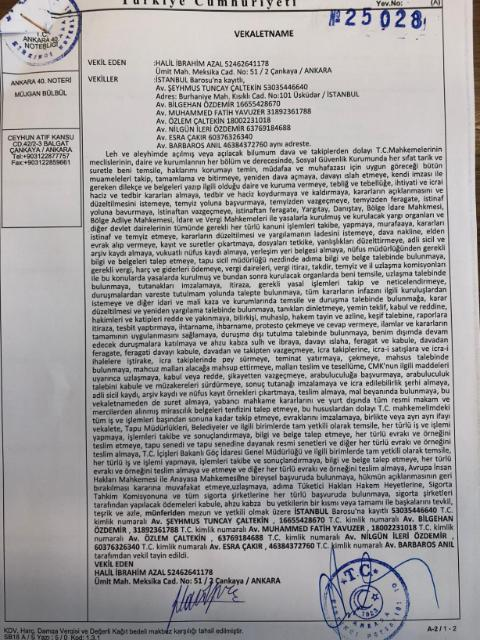stamp: (321, 556, 409, 640)
